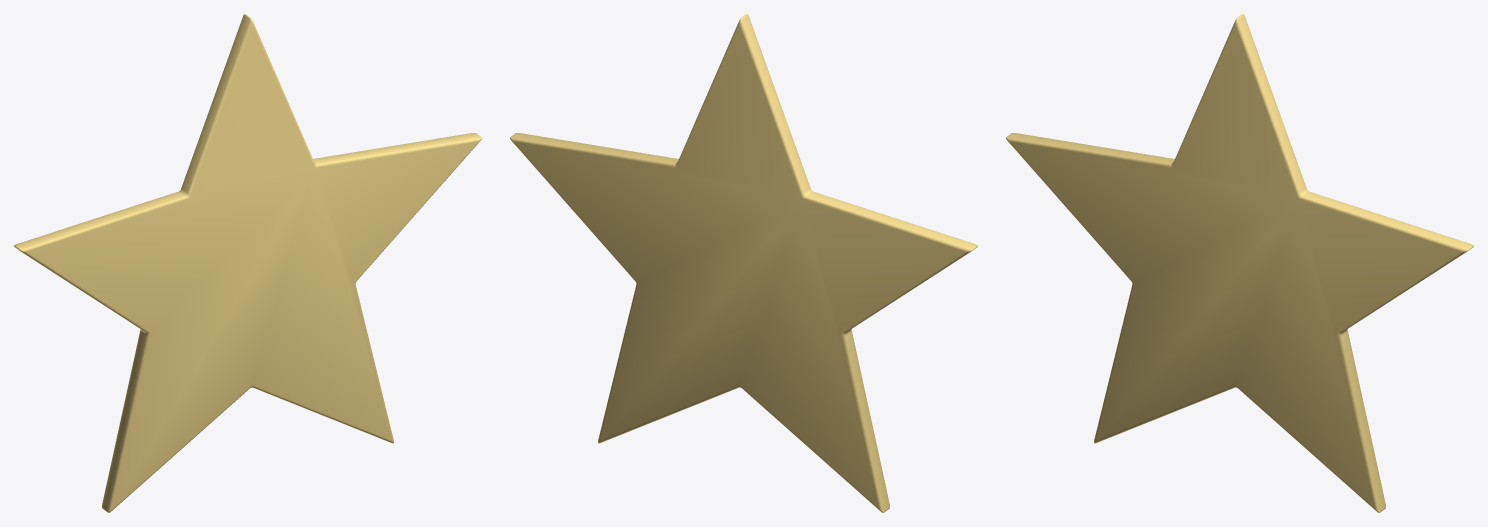
Rendered from ImpactStar.fbx.
The picture shows the model from 3 angles, left to right: view 1: azimuth 30°, elevation 25°; view 2: azimuth 150°, elevation 25°; view 3: azimuth 330°, elevation 25°; orthographic projection.
Parts seen in each view (by area): view 1: GraphicStar; view 2: GraphicStar; view 3: GraphicStar.
Boxes of the visible parts, x1=… form: GraphicStar: x1=14, y1=14, x2=481, y2=512; GraphicStar: x1=510, y1=14, x2=977, y2=512; GraphicStar: x1=1006, y1=14, x2=1473, y2=512.
Bounding box in the file's own units: 0.3593 × 0.3417 × 0.012.
